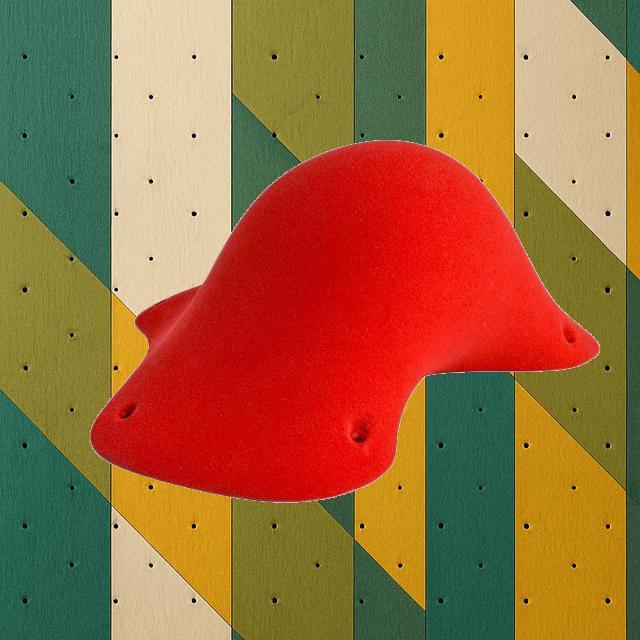Sloper: (89, 138, 601, 502)
